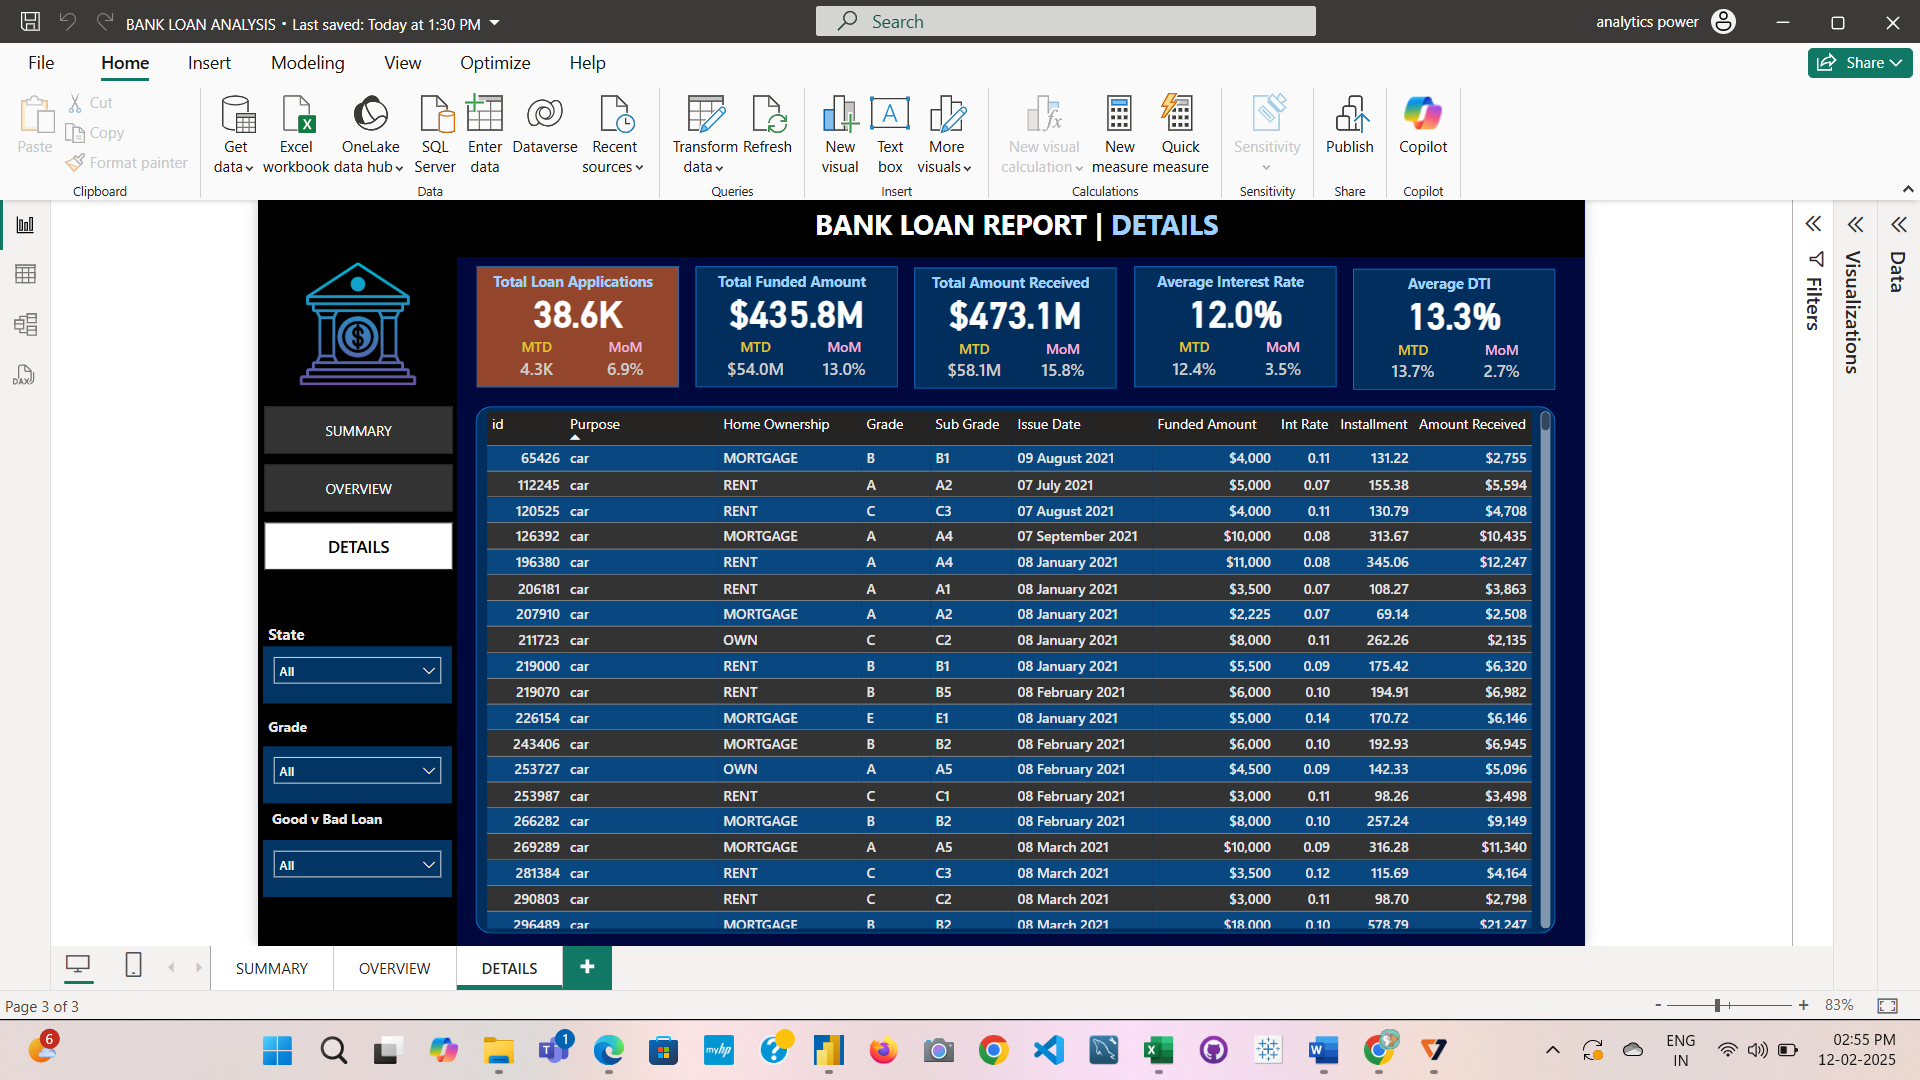

Layout of this report page (visuals, bound fields, positions):
{"tool":"powerbi","page":{"name":"DETAILS","canvas":[1280,720],"ordinal":2},"visuals":[{"type":"shape","box":[209.9,199.1,1042.4,509.1],"z":0},{"type":"shape","box":[0,0,1280,55.5],"z":1000},{"type":"shape","box":[0,55.5,192,664.7],"z":2000},{"type":"textbox","box":[499.5,0,465.7,55.5],"z":3000},{"type":"shape","box":[211.2,63.9,195.4,117],"z":3000,"group":"g1"},{"type":"shape","box":[422.6,63.9,195.4,117],"z":3000,"group":"g2"},{"type":"shape","box":[845.5,63.9,195.4,117],"z":3000,"group":"g4"},{"type":"shape","box":[634,65.1,195.4,117],"z":3000,"group":"g3"},{"type":"shape","box":[1056.9,66.4,195.4,117],"z":3000,"group":"g5"},{"type":"group","id":"g1","title":"Group 1","box":[201.5,63.9,205.1,117],"z":4000},{"type":"card","fields":{"Values":["bank_loan_data.Total Loan Applicatons"]},"box":[211.2,83.2,195.4,48.3],"z":4000,"group":"g1"},{"type":"card","fields":{"Values":["bank_loan_data.Total Funded Amount"]},"box":[422.6,83.2,195.4,48.3],"z":4000,"group":"g2"},{"type":"card","fields":{"Values":["bank_loan_data.Avg Interest Rate"]},"box":[845.5,83.2,195.4,48.3],"z":4000,"group":"g4"},{"type":"card","fields":{"Values":["bank_loan_data.Total Amount Received"]},"box":[634,84.4,195.4,48.3],"z":4000,"group":"g3"},{"type":"card","fields":{"Values":["bank_loan_data.Avg DTI"]},"box":[1056.9,85.7,195.4,48.3],"z":4000,"group":"g5"},{"type":"textbox","box":[201.5,63.9,205.1,32.6],"z":5000,"group":"g1"},{"type":"group","id":"g2","title":"Group 1","box":[412.9,63.9,205.1,117],"z":5000},{"type":"textbox","box":[412.9,63.9,205.1,32.6],"z":5000,"group":"g2"},{"type":"textbox","box":[835.8,63.9,205.1,32.6],"z":5000,"group":"g4"},{"type":"textbox","box":[624.3,65.1,205.1,32.6],"z":5000,"group":"g3"},{"type":"textbox","box":[1047.2,66.4,205.1,32.6],"z":5000,"group":"g5"},{"type":"group","id":"g3","title":"Group 1","box":[624.3,65.1,205.1,117],"z":6000},{"type":"card","title":"MTD","fields":{"Values":["bank_loan_data.MTD Loan Applications"]},"box":[234.1,132.7,70,44.6],"z":6000,"group":"g1"},{"type":"card","title":"MTD","fields":{"Values":["bank_loan_data.MTD Funded Amount"]},"box":[445.5,132.7,70,44.6],"z":6000,"group":"g2"},{"type":"card","title":"MTD","fields":{"Values":["bank_loan_data.MTD Average Int Rate"]},"box":[868.4,132.7,70,44.6],"z":6000,"group":"g4"},{"type":"card","title":"MTD","fields":{"Values":["bank_loan_data.MTD Total Amount Received"]},"box":[656.9,133.9,70,44.6],"z":6000,"group":"g3"},{"type":"card","title":"MTD","fields":{"Values":["bank_loan_data.MTD Average DTI"]},"box":[1079.8,135.2,70,44.6],"z":6000,"group":"g5"},{"type":"group","id":"g4","title":"Group 1","box":[835.8,63.9,205.1,117],"z":7000},{"type":"card","title":"MoM","fields":{"Values":["bank_loan_data.MoM Loan Applications"]},"box":[319.7,132.7,70,44.6],"z":7000,"group":"g1"},{"type":"card","title":"MoM","fields":{"Values":["bank_loan_data.MoM Total Funded Amount"]},"box":[531.1,132.7,70,44.6],"z":7000,"group":"g2"},{"type":"card","title":"MoM","fields":{"Values":["bank_loan_data.MoM Avg Int Rate"]},"box":[954,132.7,70,44.6],"z":7000,"group":"g4"},{"type":"card","title":"MoM","fields":{"Values":["bank_loan_data.MoM Total Amount Received"]},"box":[742.5,133.9,70,44.6],"z":7000,"group":"g3"},{"type":"card","title":"MoM","fields":{"Values":["bank_loan_data.MoM Avg DTI"]},"box":[1165.4,135.2,70,44.6],"z":7000,"group":"g5"},{"type":"group","id":"g5","title":"Group 1","box":[1047.2,66.4,205.1,117],"z":8000},{"type":"slicer","fields":{"Values":["bank_loan_data.address_state"]},"box":[4.8,430.5,182.2,55.5],"z":9000},{"type":"textbox","box":[4.8,404,107.4,36.2],"z":10000},{"type":"slicer","fields":{"Values":["bank_loan_data.grade"]},"box":[4.8,527,182.2,55.5],"z":11000},{"type":"textbox","box":[4.8,494.4,182.2,32.6],"z":12000},{"type":"slicer","fields":{"Values":["bank_loan_data.Good vs Bad Loan"]},"box":[4.8,617.5,182.2,55.5],"z":13000},{"type":"textbox","box":[4.8,582.5,182.2,35],"z":14000},{"type":"tableEx","fields":{"Values":["bank_loan_data.id","bank_loan_data.purpose","bank_loan_data.home_ownership","bank_loan_data.grade","bank_loan_data.sub_grade","bank_loan_data.issue_date","bank_loan_data.Total Funded Amount","Sum(bank_loan_data.int_rate)","Sum(bank_loan_data.installment)","bank_loan_data.Total Amount Received"]},"box":[214.7,199.1,1037.5,509.1],"z":15000},{"type":"pageNavigator","box":[6,199.1,182.2,159.3],"z":16000},{"type":"image","box":[13.3,55.5,166.5,127.9],"z":17000}]}

Visuals, with their boxes on the page's 1280x720 design canvas (x1, y1, x2, y2). These are canvas units, not pixel positions in the 1920x1080 screenshot, which may show the page scaled, cropped or inside an application window:
shape: (210, 199, 1252, 708)
shape: (0, 0, 1280, 56)
shape: (0, 56, 192, 720)
textbox: (500, 0, 965, 56)
shape: (211, 64, 407, 181)
shape: (423, 64, 618, 181)
shape: (846, 64, 1041, 181)
shape: (634, 65, 829, 182)
shape: (1057, 66, 1252, 183)
"Group 1" group: (202, 64, 407, 181)
card - bank_loan_data.Total Loan Applicatons: (211, 83, 407, 132)
card - bank_loan_data.Total Funded Amount: (423, 83, 618, 132)
card - bank_loan_data.Avg Interest Rate: (846, 83, 1041, 132)
card - bank_loan_data.Total Amount Received: (634, 84, 829, 133)
card - bank_loan_data.Avg DTI: (1057, 86, 1252, 134)
textbox: (202, 64, 407, 96)
"Group 1" group: (413, 64, 618, 181)
textbox: (413, 64, 618, 96)
textbox: (836, 64, 1041, 96)
textbox: (624, 65, 829, 98)
textbox: (1047, 66, 1252, 99)
"Group 1" group: (624, 65, 829, 182)
"MTD" card: (234, 133, 304, 177)
"MTD" card: (446, 133, 516, 177)
"MTD" card: (868, 133, 938, 177)
"MTD" card: (657, 134, 727, 178)
"MTD" card: (1080, 135, 1150, 180)
"Group 1" group: (836, 64, 1041, 181)
"MoM" card: (320, 133, 390, 177)
"MoM" card: (531, 133, 601, 177)
"MoM" card: (954, 133, 1024, 177)
"MoM" card: (742, 134, 812, 178)
"MoM" card: (1165, 135, 1235, 180)
"Group 1" group: (1047, 66, 1252, 183)
slicer - bank_loan_data.address_state: (5, 430, 187, 486)
textbox: (5, 404, 112, 440)
slicer - bank_loan_data.grade: (5, 527, 187, 582)
textbox: (5, 494, 187, 527)
slicer - bank_loan_data.Good vs Bad Loan: (5, 618, 187, 673)
textbox: (5, 582, 187, 618)
tableEx - bank_loan_data.id x bank_loan_data.purpose: (215, 199, 1252, 708)
pageNavigator: (6, 199, 188, 358)
image: (13, 56, 180, 183)
